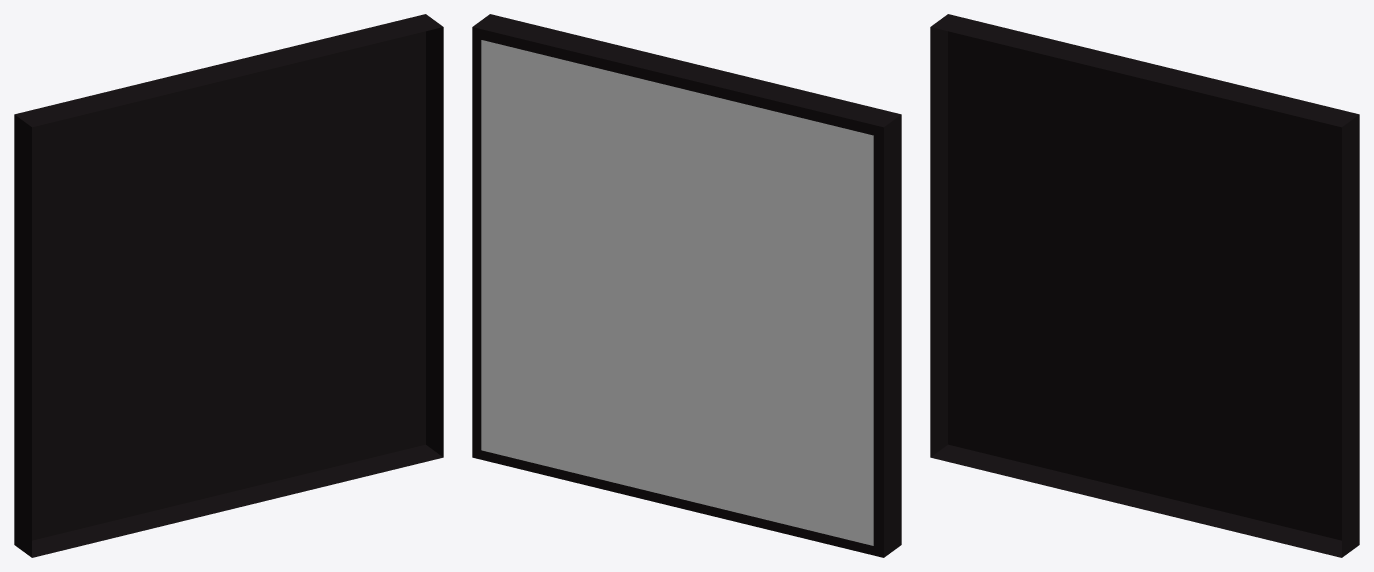
Rendered from M_zhuangshihua14.FBX.
3 renders of one model, left to right at view 1: azimuth 30°, elevation 25°; view 2: azimuth 150°, elevation 25°; view 3: azimuth 330°, elevation 25°, orthographic.
Parts seen in each view (by area): view 1: M_zhuangshihua14; view 2: M_zhuangshihua_change, M_zhuangshihua14; view 3: M_zhuangshihua14.
Boxes of the visible parts, left/top/right/bottom form: M_zhuangshihua14: left=14, top=14, right=443, bottom=557; M_zhuangshihua_change: left=481, top=40, right=873, bottom=545; M_zhuangshihua14: left=472, top=14, right=901, bottom=557; M_zhuangshihua14: left=930, top=14, right=1359, bottom=557.
Size of the model in its own units: 1.38 by 1.38 by 0.1063.
